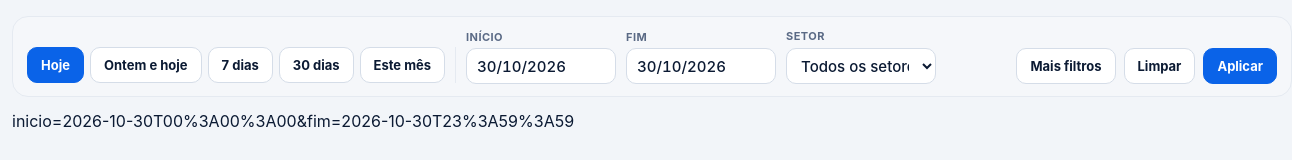
contrato gerencial Web › aplica filtros no contexto sem calcular indicadores
This screenshot has width=1292, height=160.
Select "Corte" in the dropdown labelled "Setor" at {"x": 861, "y": 66}, box [786, 48, 936, 84]
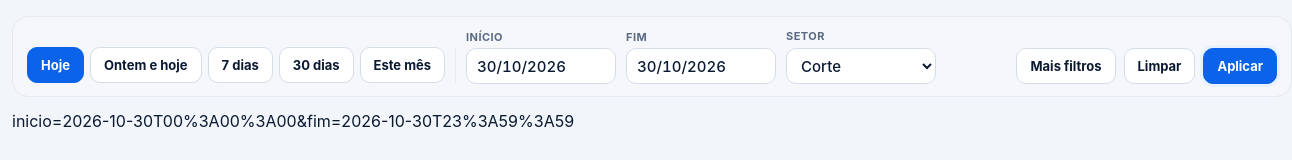
Click the button "Aplicar" at {"x": 1240, "y": 66}, box [1203, 48, 1277, 84]
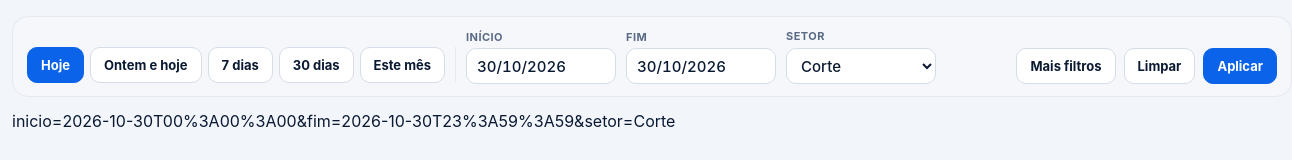
Now the text "setor=Corte" is shown, box [12, 111, 675, 131]
